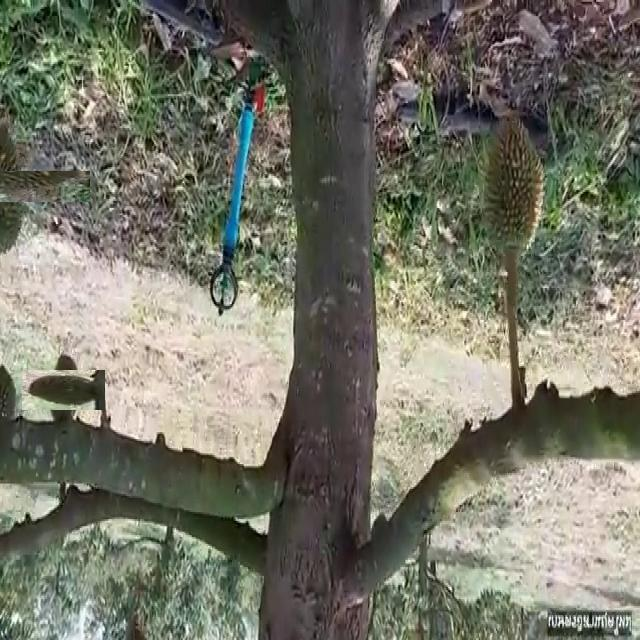durian: (480, 110, 550, 272), (0, 142, 61, 232), (32, 359, 94, 421), (0, 362, 18, 434)
